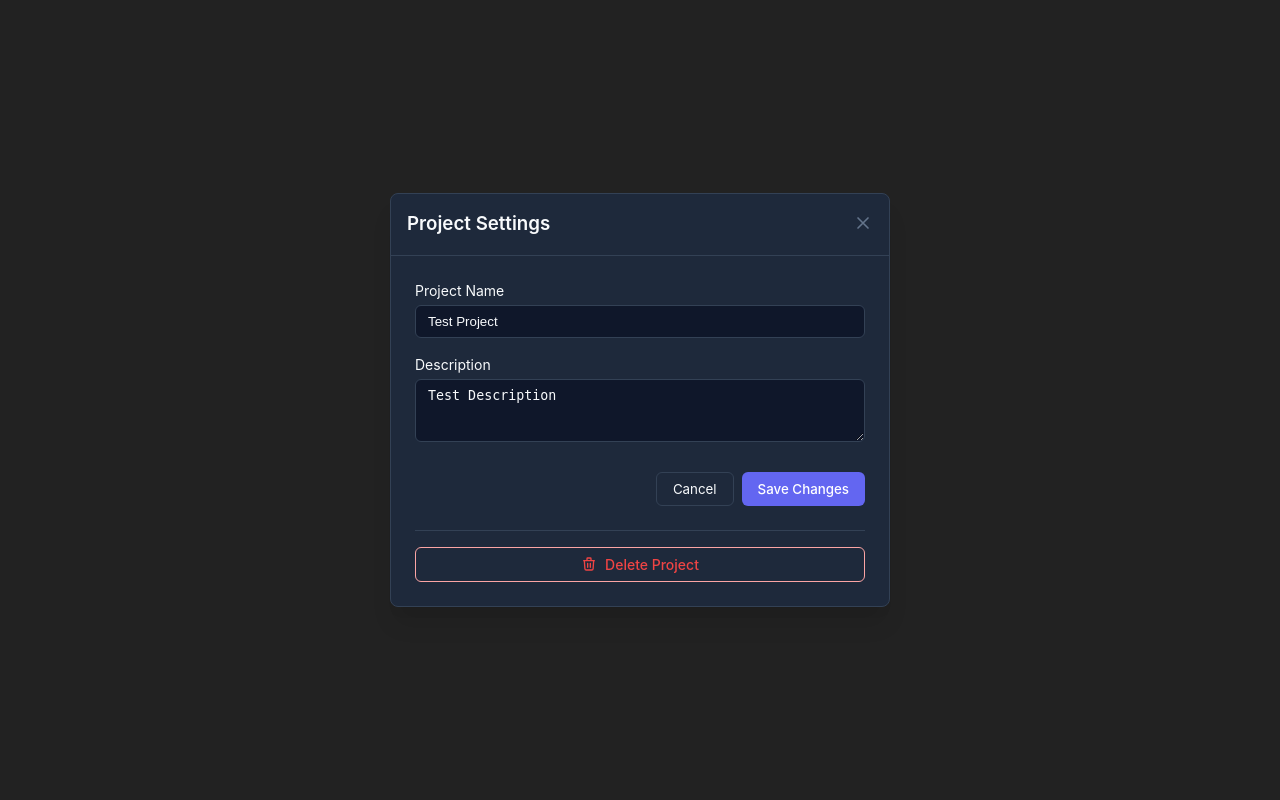
Test: ProjectSettingsModal › should show delete confirmation when delete button clicked
Click the button "Delete Project": (640, 564) [415,546,865,582]
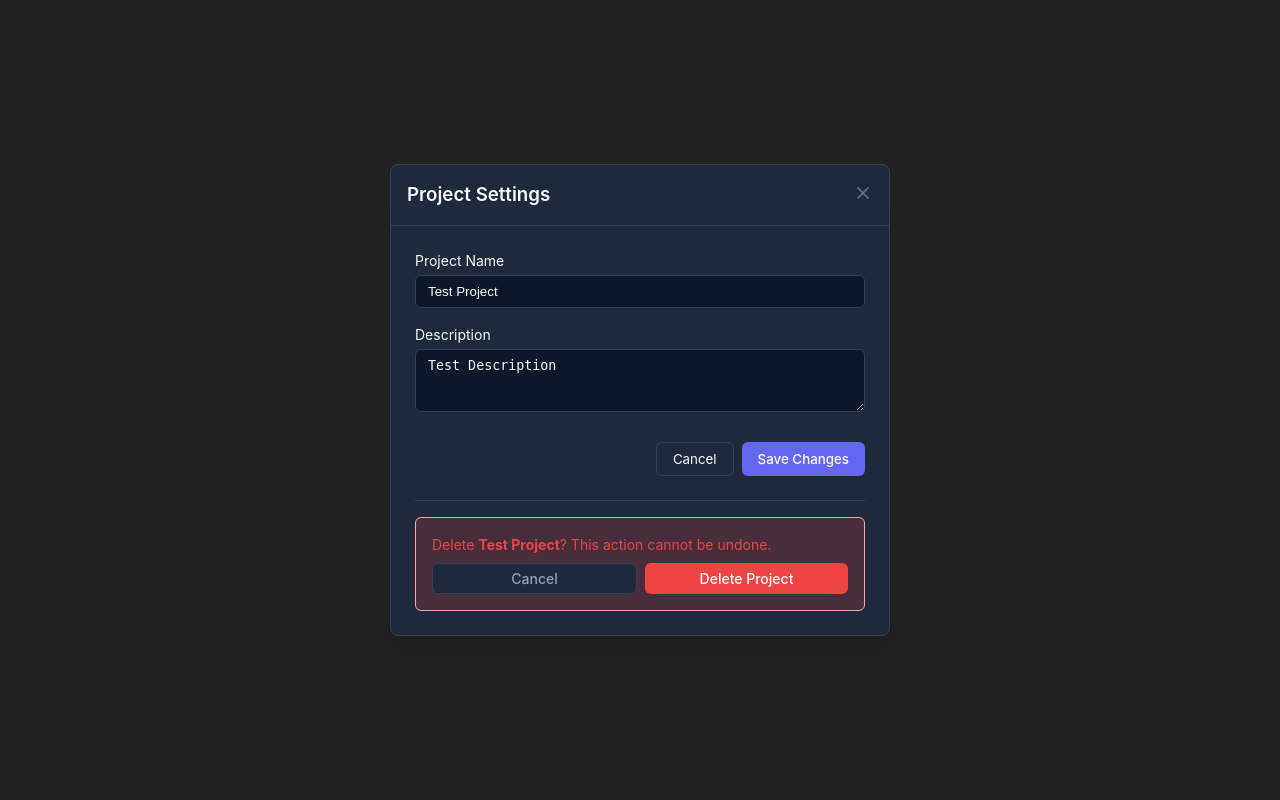
Check: the button "Delete Project" is shown, box [645,563,848,594]
Check: the text "Delete Test Project? This action cannot be undone." is shown, box [432,536,771,553]
